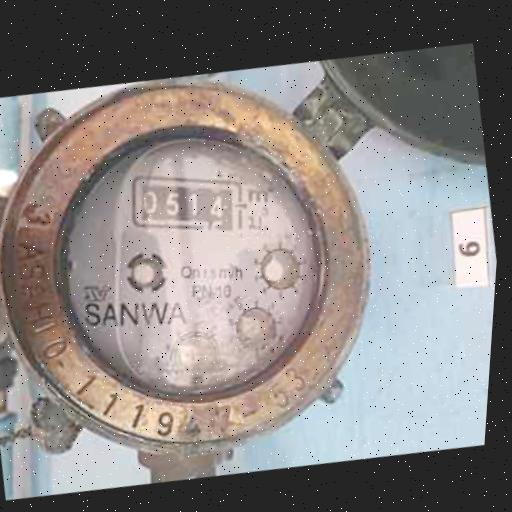0: (135, 182, 166, 224)
1: (176, 182, 212, 225)
4: (199, 182, 239, 233)
5: (155, 182, 190, 225)
border_water_meter_number: (120, 155, 255, 251)
